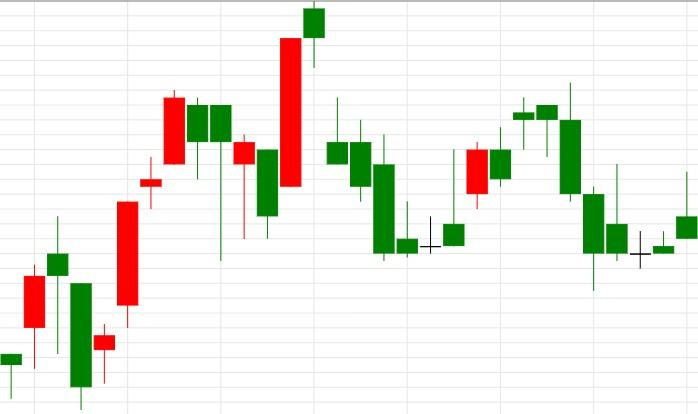hanging_man_fall: (70, 90, 231, 409), (397, 97, 559, 257)
inverse_hammer_rise: (303, 0, 419, 262), (536, 83, 628, 292)
three_black_crows_fall: (397, 82, 605, 291)
three_white_soldiers_rise: (46, 156, 163, 410)
